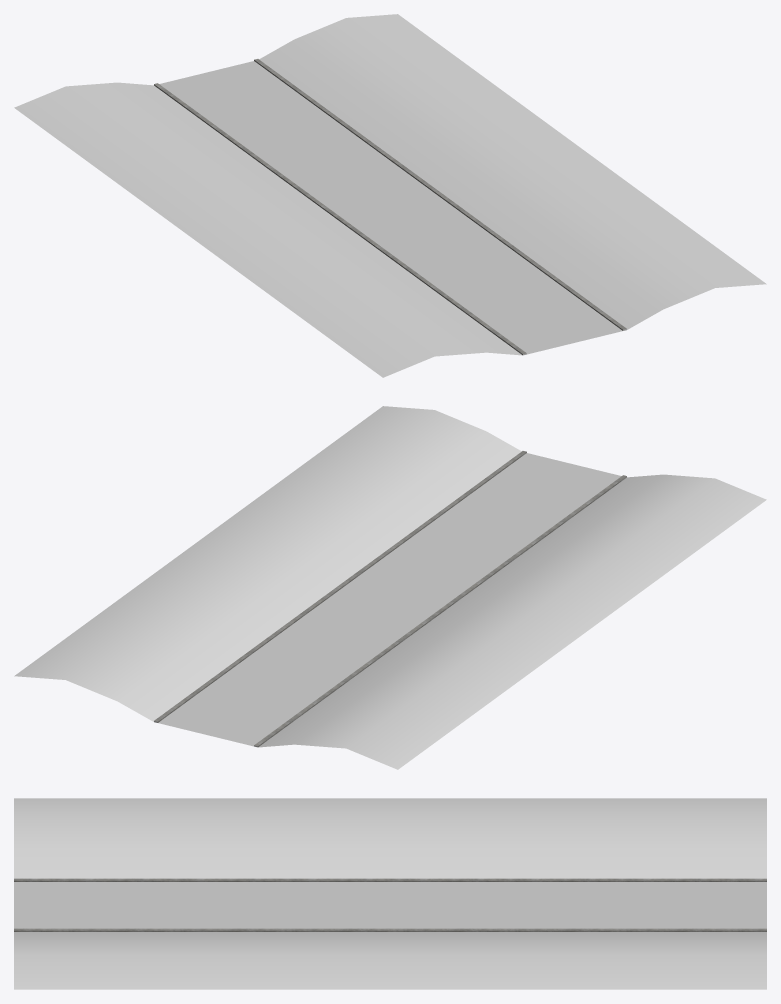
File: Road.fbx
3 renders of one model, top to bottom at view 1: azimuth 30°, elevation 25°; view 2: azimuth 150°, elevation 25°; view 3: azimuth 270°, elevation 25°, orthographic. The views are drawn at different scales.
Visible parts, largest first — view 1: Room; view 2: Room; view 3: Room.
Boxes of the visible parts, <box> form: Room: <box>14,14,766,377</box>; Room: <box>14,406,766,769</box>; Room: <box>14,798,766,989</box>.
Size of the model in its own units: 3001 by 153 by 4997.
